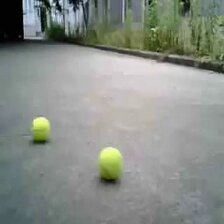tennis: (97, 147, 122, 178), (32, 116, 48, 142)
